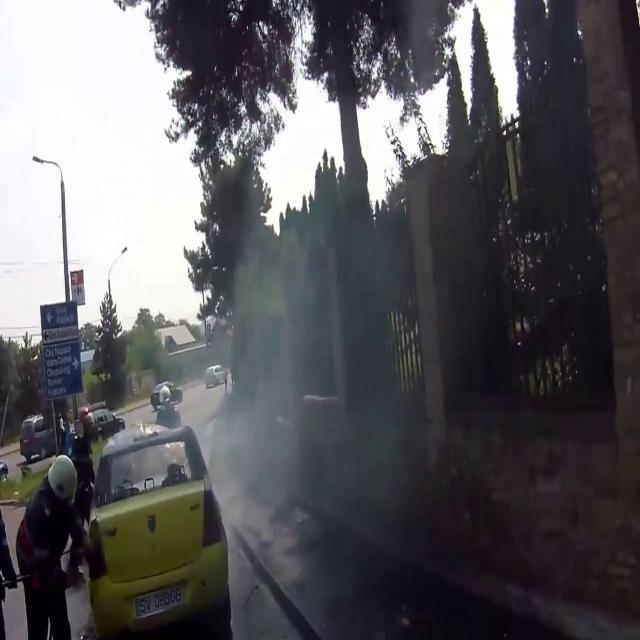Smoke: (184, 184, 474, 590)
